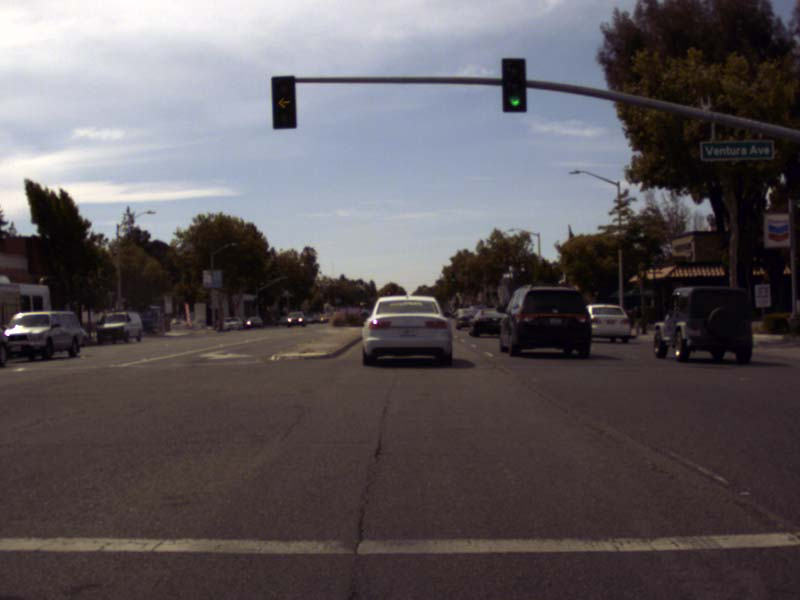Green: (501, 57, 526, 112)
Yellow: (272, 76, 295, 127)
